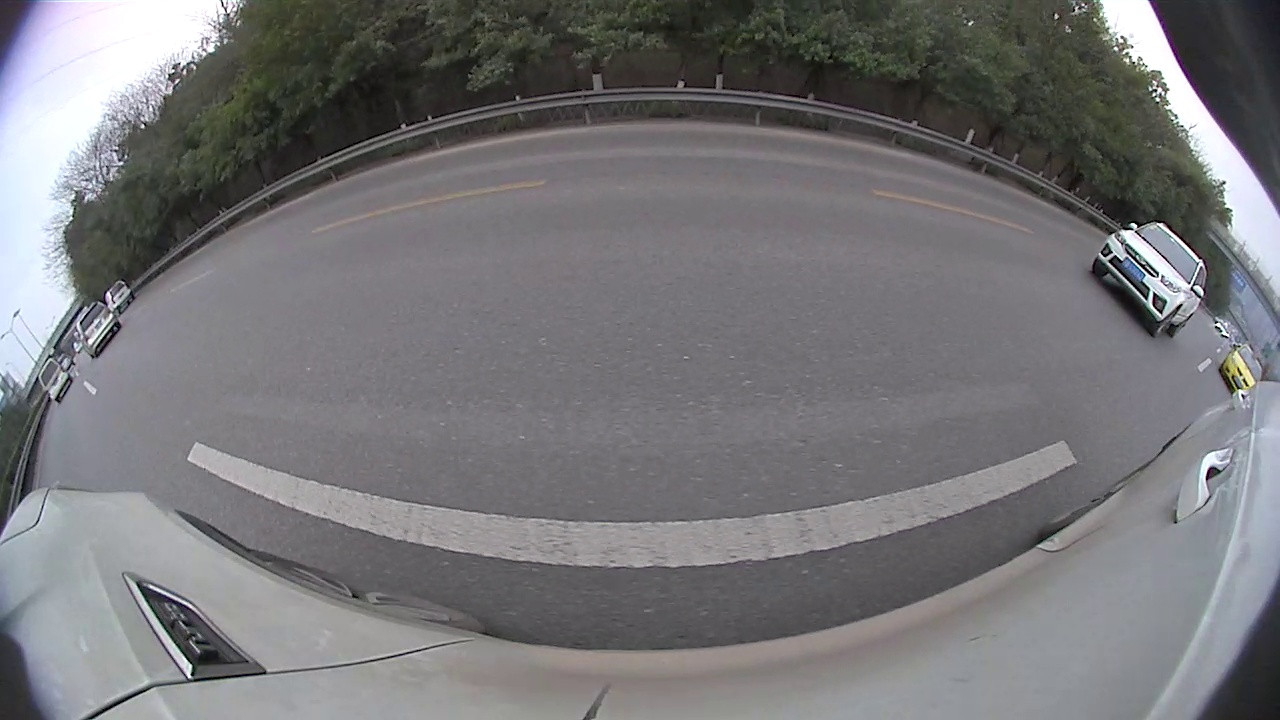car: (817, 123, 1132, 315), (585, 104, 820, 264), (348, 148, 535, 253), (1118, 252, 1246, 363), (541, 151, 589, 196)
front: (813, 177, 845, 233), (523, 184, 539, 213)
rear: (944, 222, 1010, 301), (1177, 315, 1214, 356), (466, 193, 491, 235)
